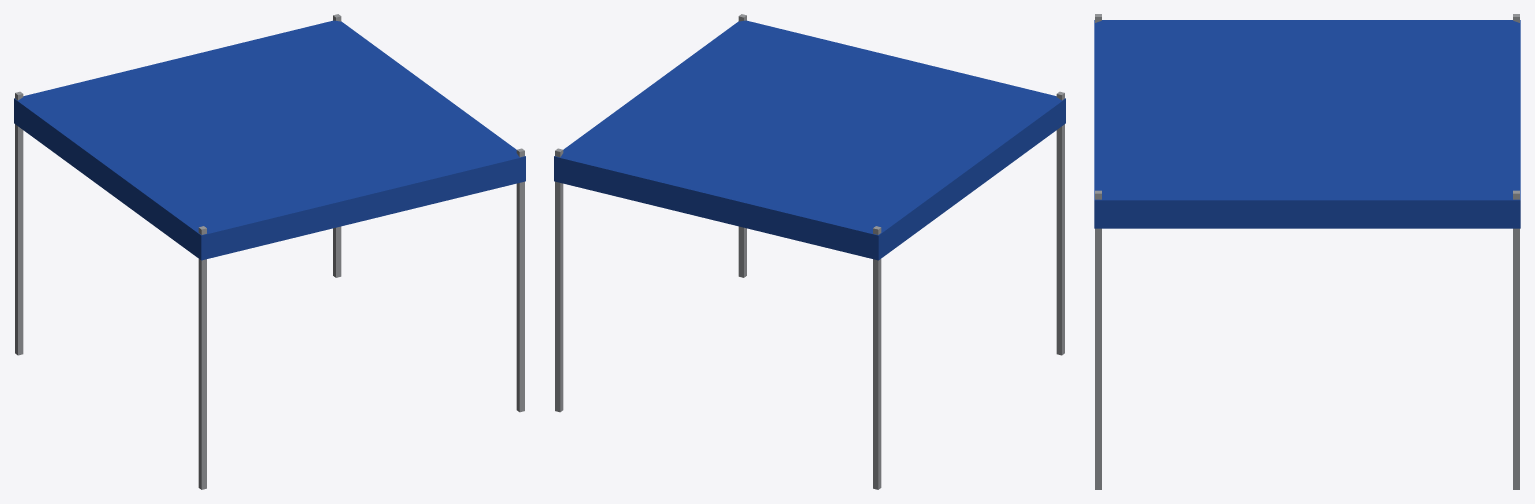
The model's file is canopy_blue.dae.
The picture shows the model from 3 angles, left to right: view 1: azimuth 30°, elevation 25°; view 2: azimuth 150°, elevation 25°; view 3: azimuth 270°, elevation 25°; orthographic projection. The views are drawn at different scales.
Visible parts, largest first — view 1: marker; view 2: marker; view 3: marker.
Part boxes in pixels (x1,y1,x2,y2): marker: (14, 14, 525, 489); marker: (554, 14, 1065, 489); marker: (1094, 14, 1520, 489).
Size of the model in its own units: 3 by 3 by 2.85.
Materials: 1 (1 with a texture image).
